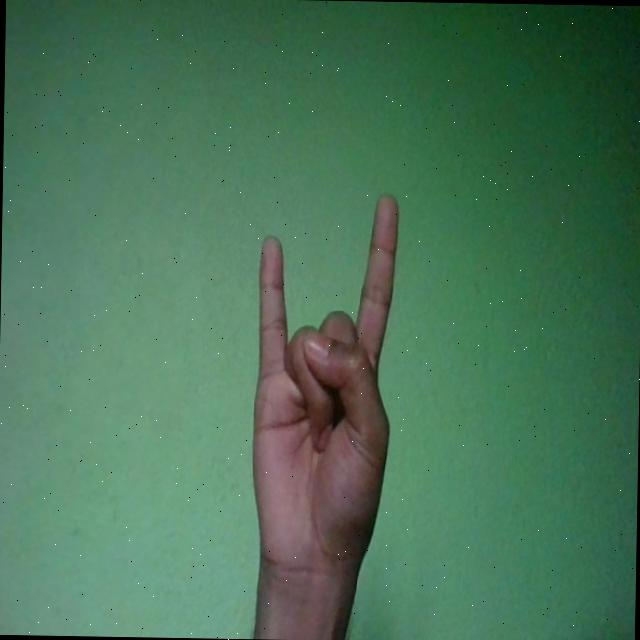open Plam: (250, 189, 398, 583)
